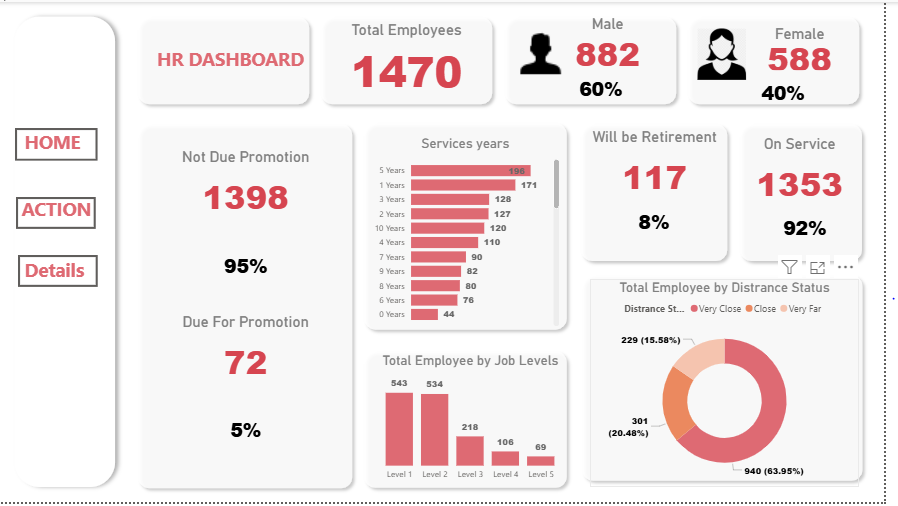

The dashboard page shown, as its layout file describes it:
{"tool":"powerbi","page":{"name":"Home","canvas":[1280,720],"ordinal":0},"visuals":[{"type":"shape","box":[16.5,9.6,166.5,699.2],"z":0},{"type":"shape","box":[195.4,12.4,264.3,143.1],"z":1000},{"type":"shape","box":[459.7,12.4,264.3,143.1],"z":2000},{"type":"shape","box":[724,12.4,264.3,143.1],"z":3000},{"type":"shape","box":[988.2,12.4,264.3,143.1],"z":4000},{"type":"shape","box":[195.4,166.5,326.2,542.3],"z":5000},{"type":"shape","box":[521.6,166.2,309.7,315.2],"z":6000},{"type":"shape","box":[521.6,494.1,309.7,214.7],"z":7000},{"type":"shape","box":[834.8,384.2,421.6,314.1],"z":8000},{"type":"shape","box":[833.6,166.7,228.3,215],"z":9000},{"type":"shape","box":[1063.1,166.7,193.3,215],"z":10000},{"type":"image","box":[1004.7,33,79.8,84],"z":11000},{"type":"image","box":[736.3,26.2,95,90.8],"z":12000},{"type":"card","title":"Total Employees","fields":{"Values":["All Measures.Total Employee"]},"box":[468,27.5,246.4,112.9],"z":13000},{"type":"barChart","title":"Services years","fields":{"Y":["All Measures.Total Employee"],"Category":["HR Analytics Data.Service Years"]},"box":[536.4,192.1,280.3,280.3],"z":14000},{"type":"card","title":"Male","fields":{"Values":["All Measures.Male"]},"box":[757.5,18.7,246.8,84.3],"z":15000},{"type":"card","title":"Female","fields":{"Values":["All Measures.Female"]},"box":[1033.9,32.8,246.8,70.3],"z":16000},{"type":"card","fields":{"Values":["All Measures.Male %"]},"box":[784,95.3,174.9,60.9],"z":17000},{"type":"card","fields":{"Values":["All Measures.Female %"]},"box":[1049.6,103.1,167.1,56.2],"z":18000},{"type":"card","title":"Not Due Promotion","fields":{"Values":["All Measures.Not Due Promotion"]},"box":[235.8,210.8,246.8,112.5],"z":19000},{"type":"card","title":"Due For Promotion","fields":{"Values":["All Measures.Due For Promotion"]},"box":[235.8,448.2,246.8,112.5],"z":20000},{"type":"card","fields":{"Values":["All Measures.% Not Due Promotion"]},"box":[235.8,323.3,246.8,112.5],"z":21000},{"type":"card","fields":{"Values":["All Measures.% Due For Promotion"]},"box":[235.8,560.7,246.8,112.5],"z":22000},{"type":"columnChart","fields":{"Category":["HR Analytics Data.Job Levels"],"Y":["All Measures.Total Employee"]},"box":[535.7,504.5,295.2,193.7],"z":23000},{"type":"card","title":"Will be Retirement","fields":{"Values":["All Measures.Due For Retirement"]},"box":[824.7,181.2,246.8,112.5],"z":24000},{"type":"card","title":"On Service","fields":{"Values":["All Measures.On Service"]},"box":[1033.9,192.1,246.8,112.5],"z":25000},{"type":"card","fields":{"Values":["All Measures.% On Service"]},"box":[1077.7,274.9,174.9,101.5],"z":26000},{"type":"card","fields":{"Values":["All Measures.% Due For Retirement"]},"box":[859,267.1,174.9,101.5],"z":27000},{"type":"donutChart","fields":{"Category":["HR Analytics Data.Distrance Status"],"Y":["All Measures.Total Employee"]},"box":[855.9,398.3,387.3,299.9],"z":28000},{"type":"textbox","box":[216.2,58.1,243.2,66.2],"z":29000},{"type":"textbox","box":[17.2,176.5,128.1,70.3],"z":30000},{"type":"textbox","box":[27,274.3,118.9,70.3],"z":31000},{"type":"actionButton","box":[27,181.1,118.9,47.3],"z":32000},{"type":"actionButton","box":[31.1,364.8,114.8,45.9],"z":33000},{"type":"textbox","box":[24.3,360.8,118.9,70.3],"z":33001},{"type":"actionButton","box":[28.4,281,114.8,45.9],"z":33002},{"type":"actionButton","box":[43.2,463.4,100,40.5],"z":33003}]}

Visuals, with their boxes in screenshot pixels (x1, y1, x2, y2), scaled from the page's 1280x720 canvas onto the 898x506 screenshot:
shape: region(12, 7, 128, 498)
shape: region(137, 9, 323, 109)
shape: region(323, 9, 508, 109)
shape: region(508, 9, 693, 109)
shape: region(693, 9, 879, 109)
shape: region(137, 117, 366, 498)
shape: region(366, 117, 583, 338)
shape: region(366, 347, 583, 498)
shape: region(586, 270, 881, 491)
shape: region(585, 117, 745, 268)
shape: region(746, 117, 881, 268)
image: region(705, 23, 761, 82)
image: region(517, 18, 583, 82)
"Total Employees" card: region(328, 19, 501, 99)
"Services years" barChart: region(376, 135, 573, 332)
"Male" card: region(531, 13, 705, 72)
"Female" card: region(725, 23, 897, 72)
card - All Measures.Male %: region(550, 67, 673, 110)
card - All Measures.Female %: region(736, 72, 854, 112)
"Not Due Promotion" card: region(165, 148, 339, 227)
"Due For Promotion" card: region(165, 315, 339, 394)
card - All Measures.% Not Due Promotion: region(165, 227, 339, 306)
card - All Measures.% Due For Promotion: region(165, 394, 339, 473)
columnChart - HR Analytics Data.Job Levels x All Measures.Total Employee: region(376, 355, 583, 491)
"Will be Retirement" card: region(579, 127, 752, 206)
"On Service" card: region(725, 135, 897, 214)
card - All Measures.% On Service: region(756, 193, 879, 265)
card - All Measures.% Due For Retirement: region(603, 188, 725, 259)
donutChart - HR Analytics Data.Distrance Status x All Measures.Total Employee: region(600, 280, 872, 491)
textbox: region(152, 41, 322, 87)
textbox: region(12, 124, 102, 173)
textbox: region(19, 193, 102, 242)
actionButton: region(19, 127, 102, 161)
actionButton: region(22, 256, 102, 289)
textbox: region(17, 254, 100, 303)
actionButton: region(20, 197, 100, 230)
actionButton: region(30, 326, 100, 354)
